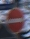No entry: (6, 6, 25, 34)
